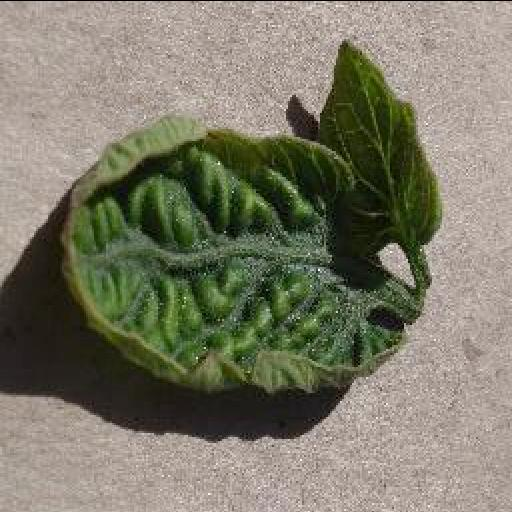disease_tomato: (62, 116, 408, 396)
